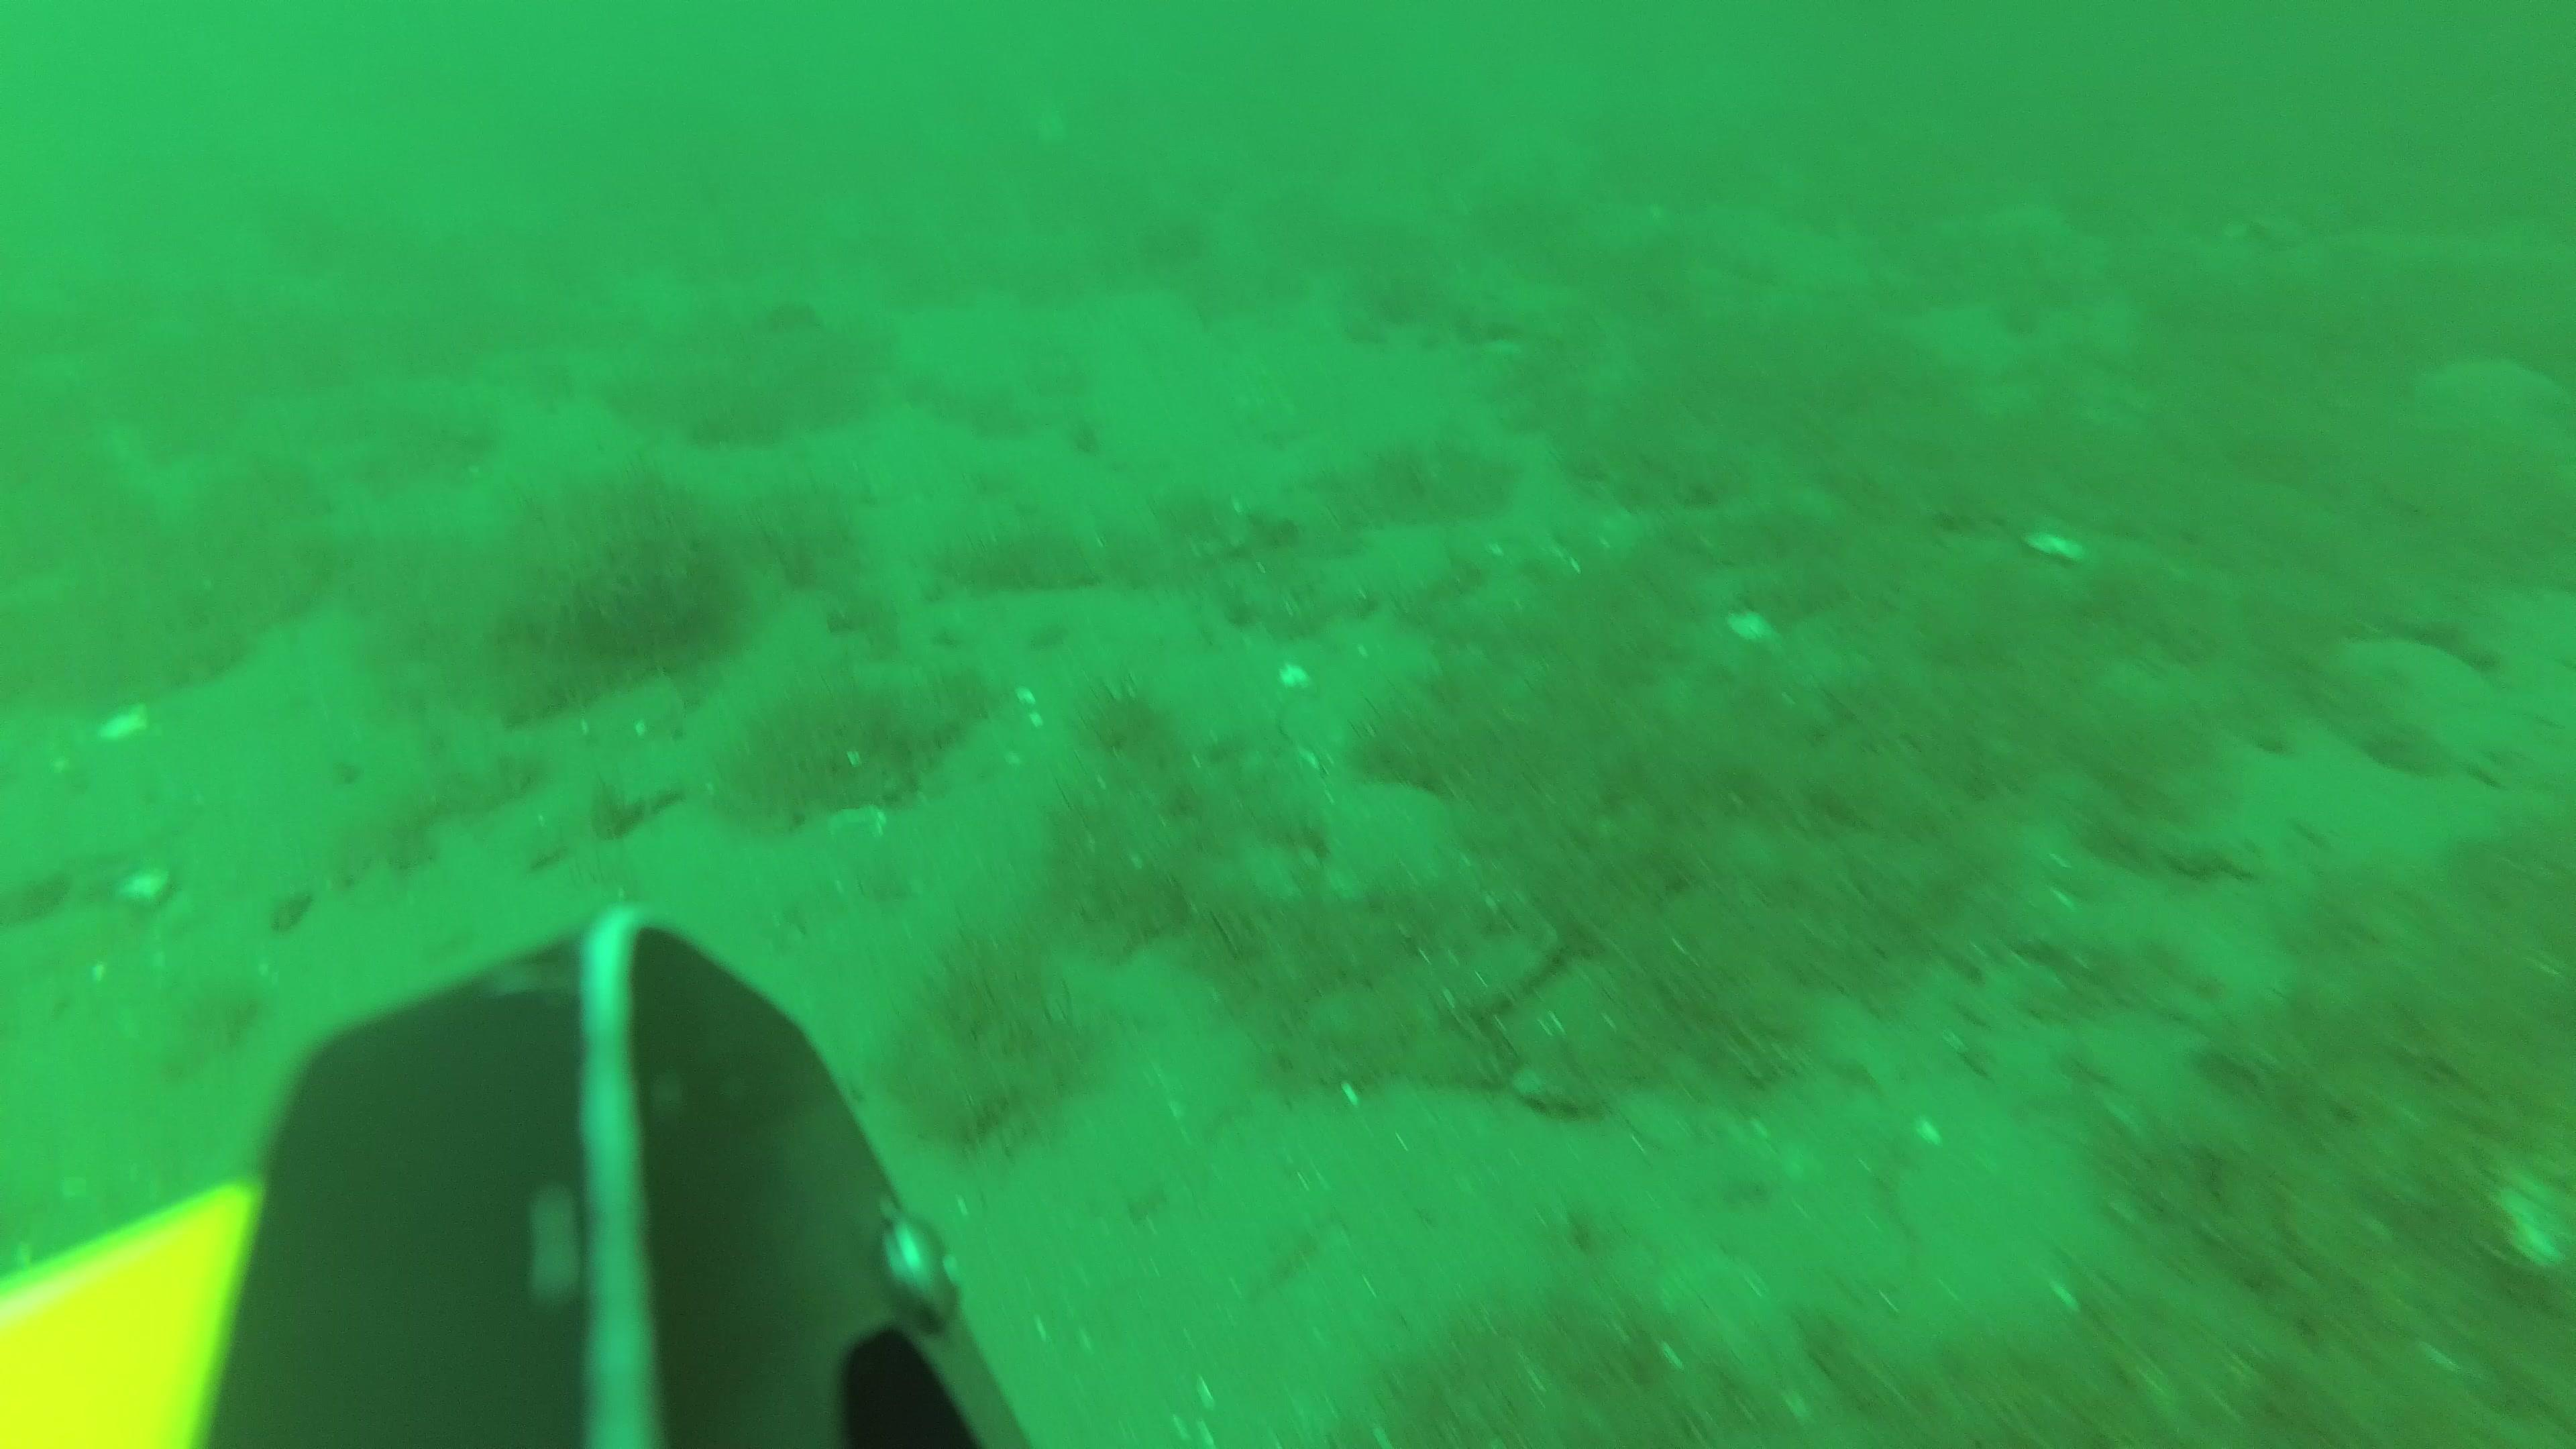scallop: (589, 672, 685, 750), (824, 805, 885, 858)
